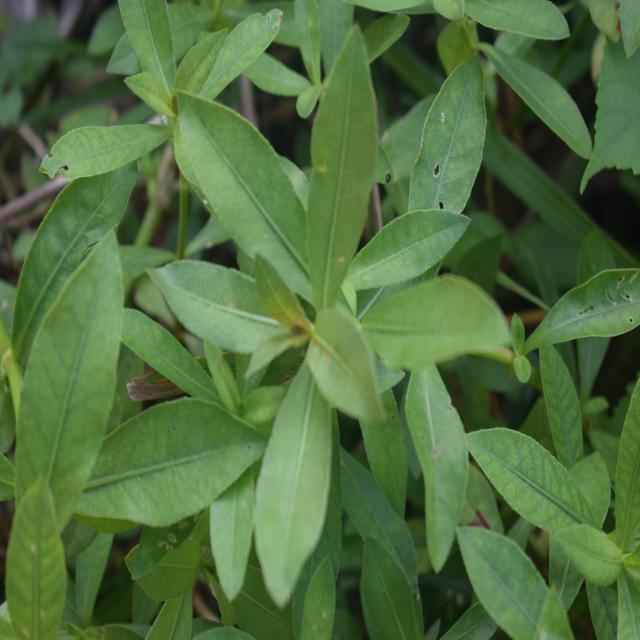Alligatorweed: (167, 40, 503, 546)
